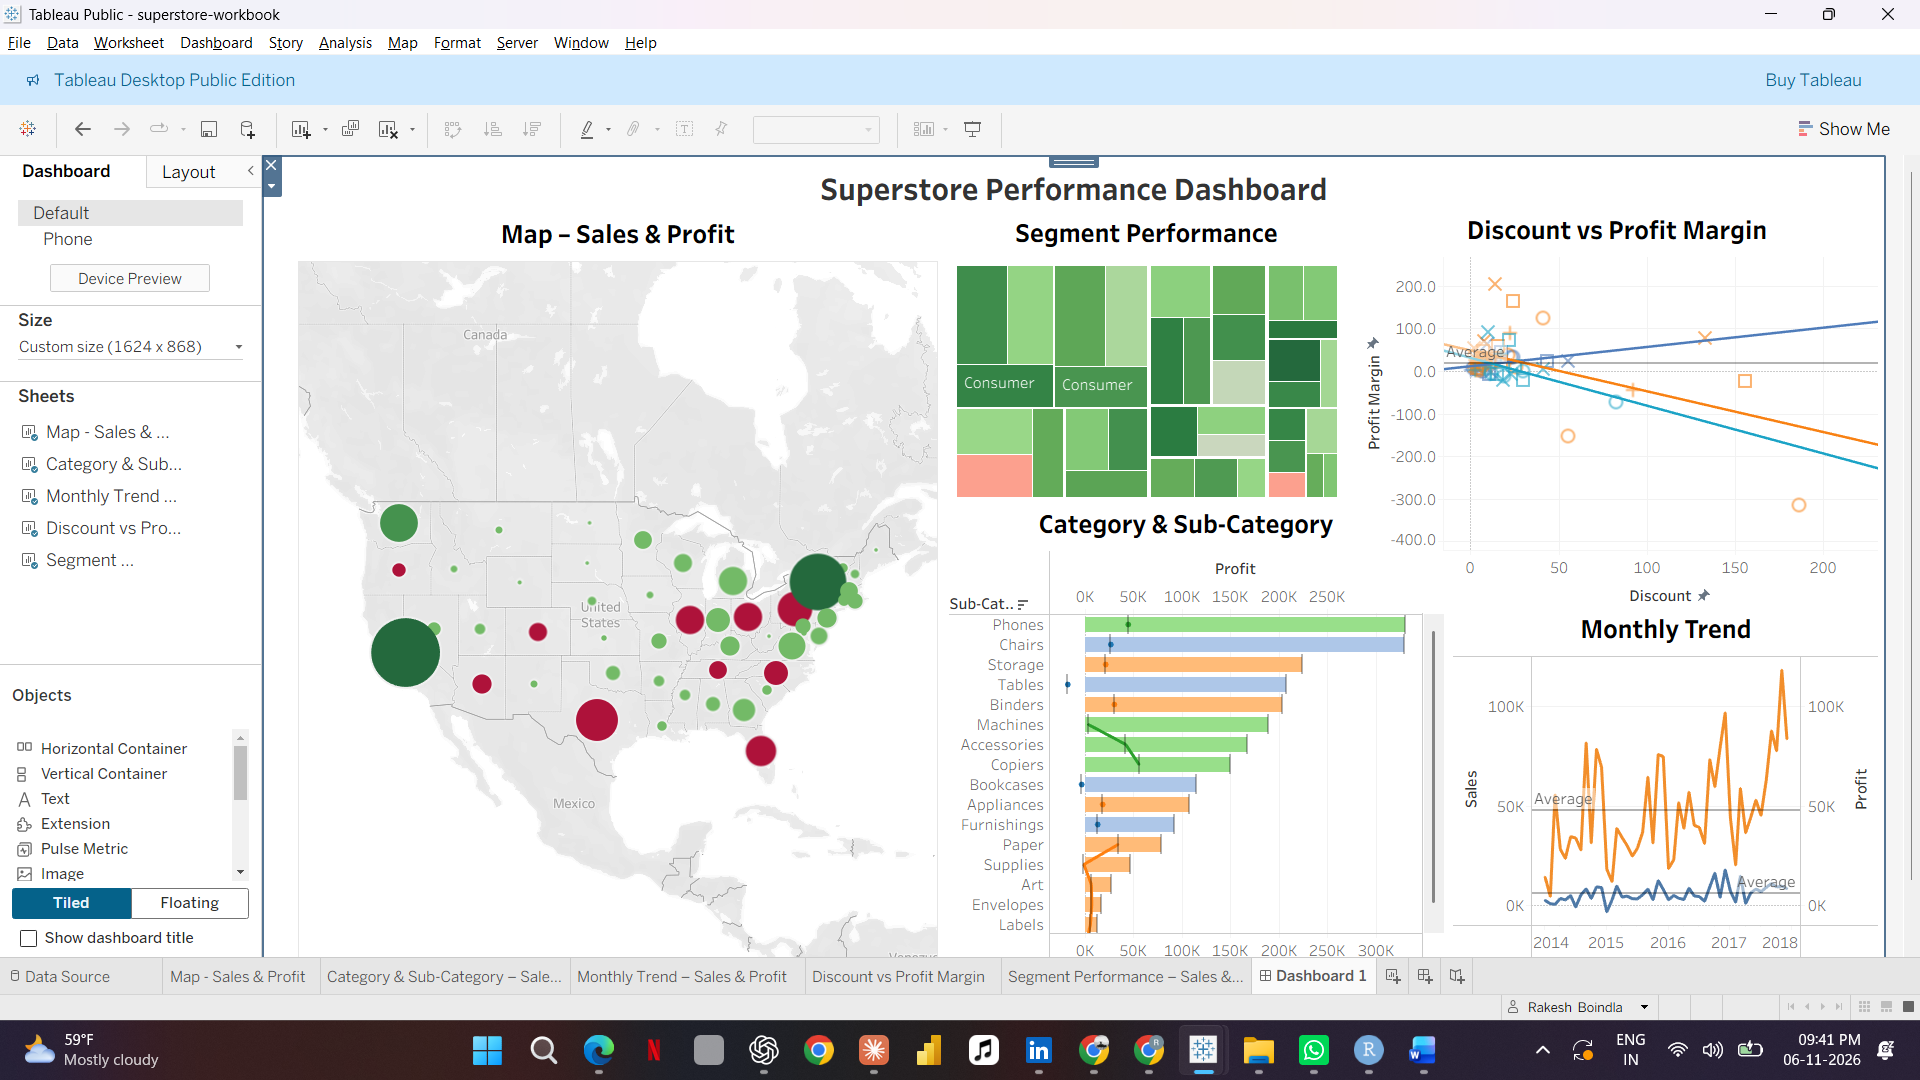

The page's visual inventory and layout, read from the dashboard file:
{"tool":"tableau","page":{"name":"Dashboard 1","canvas":[1624,868],"ordinal":0},"visuals":[{"type":"title","box":[8,8,1608,49]},{"type":"worksheet","title":"Discount vs Profit Margin","mark":"Automatic","rows":["Calculation_1006554521277779968"],"cols":["Discount"],"box":[1094,53,522,405]},{"type":"worksheet","title":"Segment Performance – Sales & Profit Margin","mark":"Automatic","box":[689,56,518,292]},{"type":"worksheet","title":"Map - Sales & Profit","mark":"Automatic","box":[36,57,640,780]},{"type":"worksheet","title":"Category & Sub-Category – Sales & Profit","mark":"Automatic","rows":["Sub-Category"],"cols":["Sales","Profit"],"box":[687,347,495,495]},{"type":"worksheet","title":"Monthly Trend – Sales & Profit","mark":"Automatic","rows":["Sales","Profit"],"cols":["Order Date"],"box":[1191,452,426,382]}]}

Visuals, with their boxes on the page's 1624x868 design canvas (x1, y1, x2, y2). These are canvas units, not pixel positions in the 1920x1080 screenshot, which may show the page scaled, cropped or inside an application window:
title: x1=8 y1=8 x2=1616 y2=57
"Discount vs Profit Margin" worksheet: x1=1094 y1=53 x2=1616 y2=458
"Segment Performance – Sales & Profit Margin" worksheet: x1=689 y1=56 x2=1207 y2=348
"Map - Sales & Profit" worksheet: x1=36 y1=57 x2=676 y2=837
"Category & Sub-Category – Sales & Profit" worksheet: x1=687 y1=347 x2=1182 y2=842
"Monthly Trend – Sales & Profit" worksheet: x1=1191 y1=452 x2=1617 y2=834
